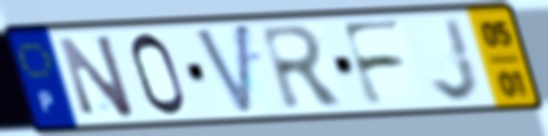0: (128, 30, 187, 118)
F: (337, 17, 410, 110)
J: (428, 15, 484, 104)
N: (54, 32, 139, 120)
R: (256, 22, 349, 113)
V: (190, 20, 254, 119)
